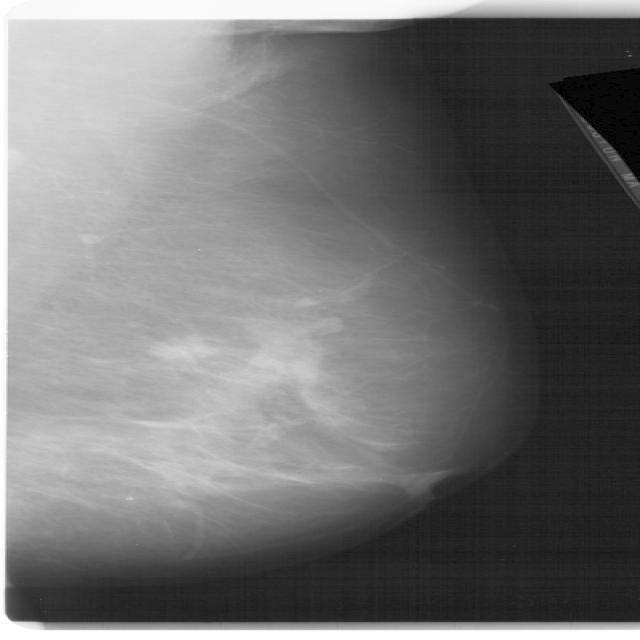tumour: (148, 335, 218, 363)
